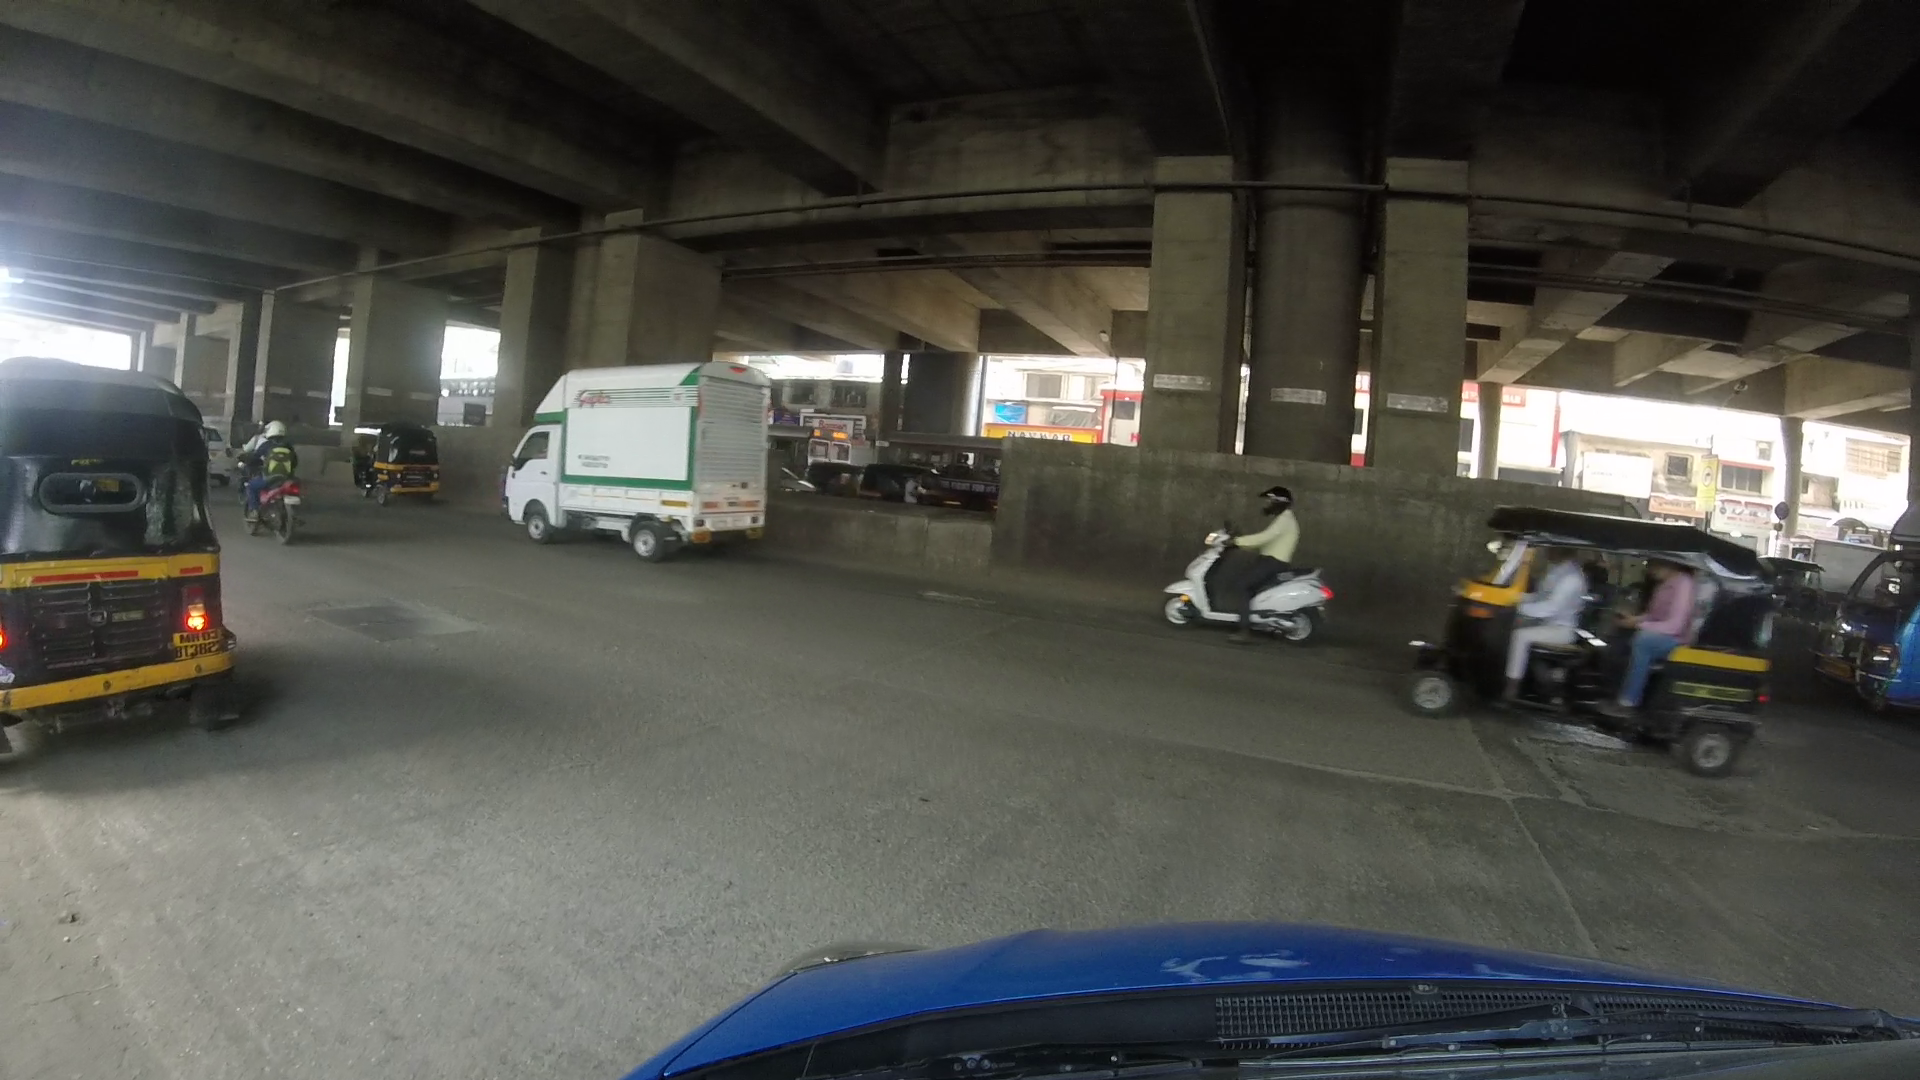bike/scooter: (1172, 480, 1328, 642)
rickshaw: (5, 353, 281, 760), (1411, 501, 1755, 774), (355, 427, 434, 492)
truck: (498, 360, 771, 554)
